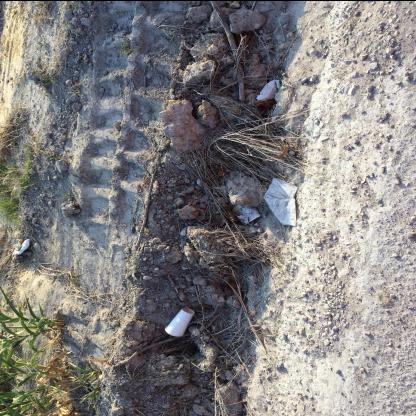karton: (165, 306, 195, 336)
